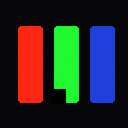1 square: (51, 89, 65, 103)
